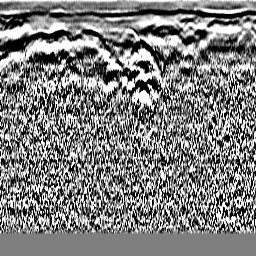cavity: (119, 27, 140, 43)
